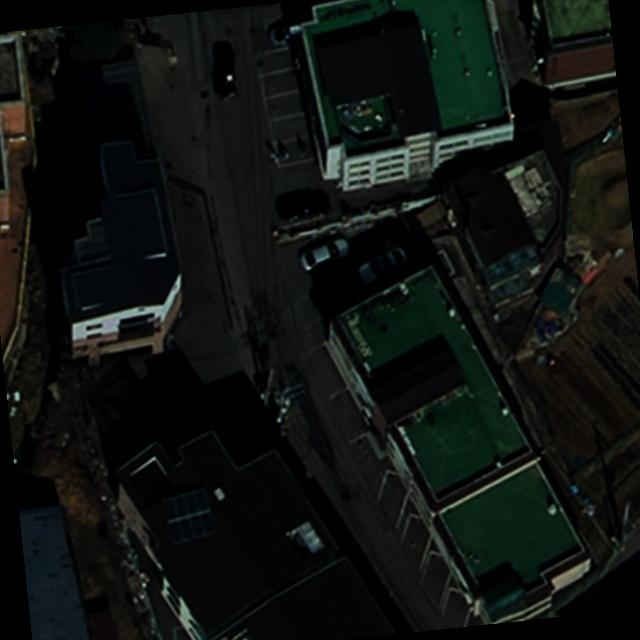solar: (158, 480, 216, 550)
